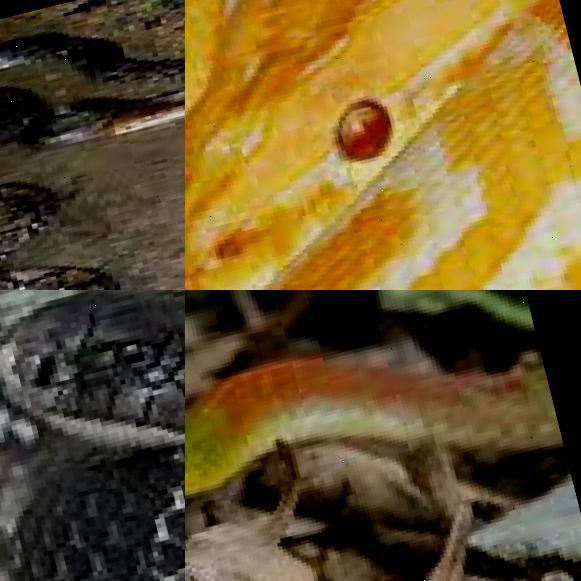2: (185, 290, 569, 581)
3: (0, 0, 185, 290)
5: (0, 290, 185, 581)
snake: (185, 0, 581, 290)
